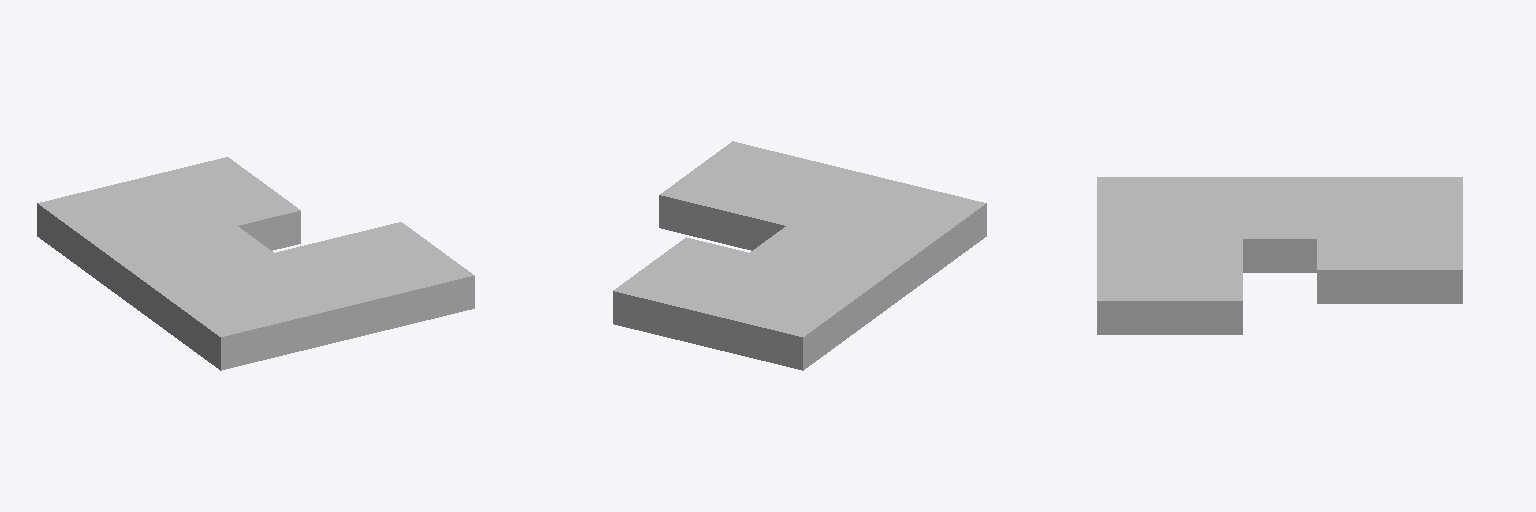
File: 55s_block.obj
3 renders of one model, left to right at view 1: azimuth 30°, elevation 25°; view 2: azimuth 150°, elevation 25°; view 3: azimuth 270°, elevation 25°, orthographic.
Visible parts, largest first — view 1: block.0.0_block.4387, block.3.0_block.4402, block.1.0_block.4392, block.2.0_block.4397, block.2.3_block.4400, block.0.3_block.4390, block.0.4_block.4391, block.0.1_block.4388, block.0.2_block.4389, block.1.1_block.4393, block.2.4_block.4401, block.1.3_block.4395 (+4 smaller); view 2: block.0.4_block.4391, block.3.1_block.4403, block.1.4_block.4396, block.2.4_block.4401, block.2.1_block.4398, block.0.1_block.4388, block.0.0_block.4387, block.0.3_block.4390, block.0.2_block.4389, block.1.3_block.4395, block.2.0_block.4397, block.1.1_block.4393 (+4 smaller); view 3: block.1.2_block.4394, block.2.3_block.4400, block.2.4_block.4401, block.3.0_block.4402, block.3.1_block.4403, block.0.2_block.4389, block.0.0_block.4387, block.0.1_block.4388, block.0.3_block.4390, block.0.4_block.4391, block.1.0_block.4392, block.1.1_block.4393 (+4 smaller).
Part boxes in pixels (bbox=[...]): block.0.0_block.4387: bbox=[184, 295, 283, 370]; block.3.0_block.4402: bbox=[375, 249, 474, 323]; block.1.0_block.4392: bbox=[248, 280, 347, 354]; block.2.0_block.4397: bbox=[312, 264, 410, 339]; block.2.3_block.4400: bbox=[202, 184, 300, 250]; block.0.3_block.4390: bbox=[74, 215, 173, 289]; block.0.4_block.4391: bbox=[37, 188, 136, 262]; block.0.1_block.4388: bbox=[147, 268, 246, 343]; block.0.2_block.4389: bbox=[111, 242, 209, 315]; block.1.1_block.4393: bbox=[211, 253, 310, 294]; block.2.4_block.4401: bbox=[165, 157, 263, 198]; block.1.3_block.4395: bbox=[138, 199, 236, 240]; block.0.4_block.4391: bbox=[740, 295, 839, 370]; block.3.1_block.4403: bbox=[659, 168, 758, 243]; block.1.4_block.4396: bbox=[676, 280, 775, 354]; block.2.4_block.4401: bbox=[613, 264, 711, 339]; block.2.1_block.4398: bbox=[723, 184, 821, 250]; block.0.1_block.4388: bbox=[850, 215, 949, 289]; block.0.0_block.4387: bbox=[887, 188, 986, 262]; block.0.3_block.4390: bbox=[777, 268, 876, 343]; block.0.2_block.4389: bbox=[814, 242, 912, 315]; block.1.3_block.4395: bbox=[713, 253, 812, 294]; block.2.0_block.4397: bbox=[760, 157, 858, 198]; block.1.1_block.4393: bbox=[787, 199, 885, 240]; block.1.2_block.4394: bbox=[1243, 208, 1316, 272]; block.2.3_block.4400: bbox=[1317, 239, 1389, 303]; block.2.4_block.4401: bbox=[1390, 239, 1462, 303]; block.3.0_block.4402: bbox=[1097, 270, 1169, 334]; block.3.1_block.4403: bbox=[1170, 270, 1242, 334]; block.0.2_block.4389: bbox=[1243, 177, 1316, 207]; block.0.0_block.4387: bbox=[1097, 177, 1169, 207]; block.0.1_block.4388: bbox=[1170, 177, 1242, 207]; block.0.3_block.4390: bbox=[1317, 177, 1389, 207]; block.0.4_block.4391: bbox=[1390, 177, 1462, 207]; block.1.0_block.4392: bbox=[1097, 208, 1169, 238]; block.1.1_block.4393: bbox=[1170, 208, 1242, 238].
Bounding box in the file's own units: 8 × 1 × 10.